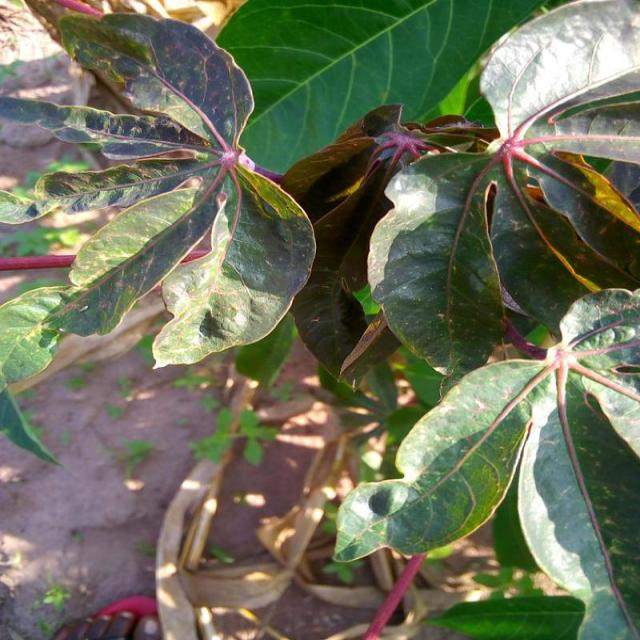cassava leaf: (2, 9, 316, 370), (365, 0, 638, 393), (212, 0, 552, 178)
